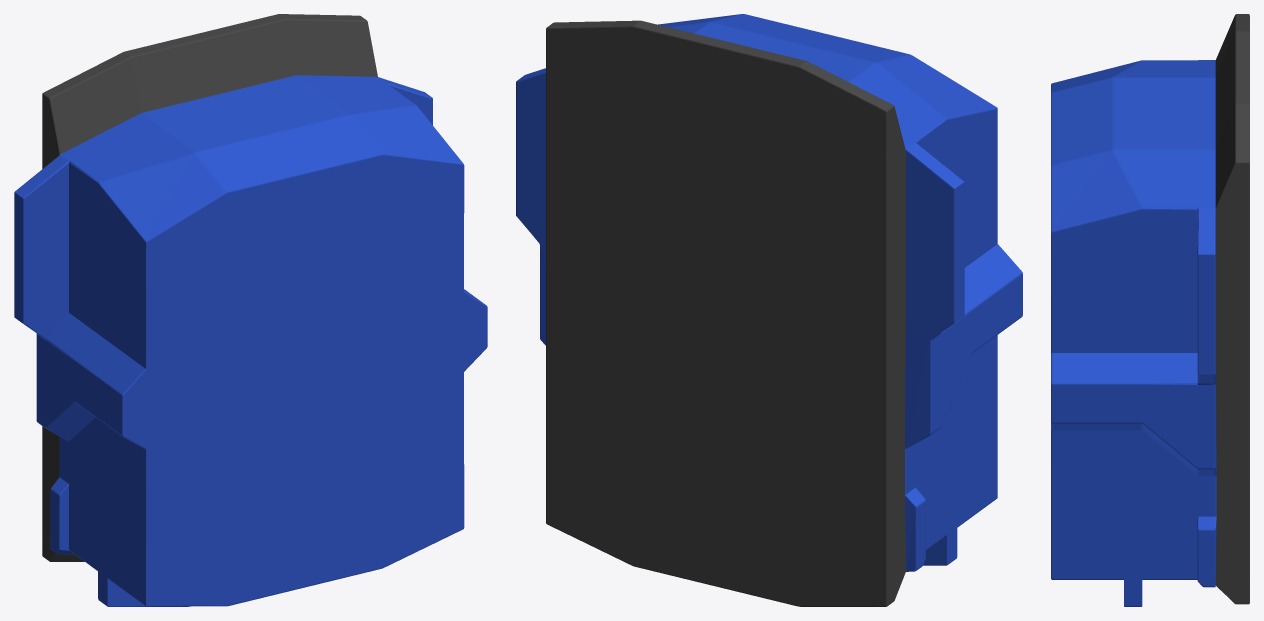
File: x2_chassis.dae
3 renders of one model, left to right at view 1: azimuth 30°, elevation 25°; view 2: azimuth 150°, elevation 25°; view 3: azimuth 270°, elevation 25°, orthographic. The views are drawn at different scales.
Parts seen in each view (by area): view 1: X2_Body; view 2: X2_Body; view 3: X2_Body.
Boxes of the visible parts, x1,y1,x2,y2 form: X2_Body: (14,14,487,606); X2_Body: (516,14,1022,606); X2_Body: (1051,14,1249,606).
Bounding box in the file's own units: 0.4203 × 0.1847 × 0.4969.
